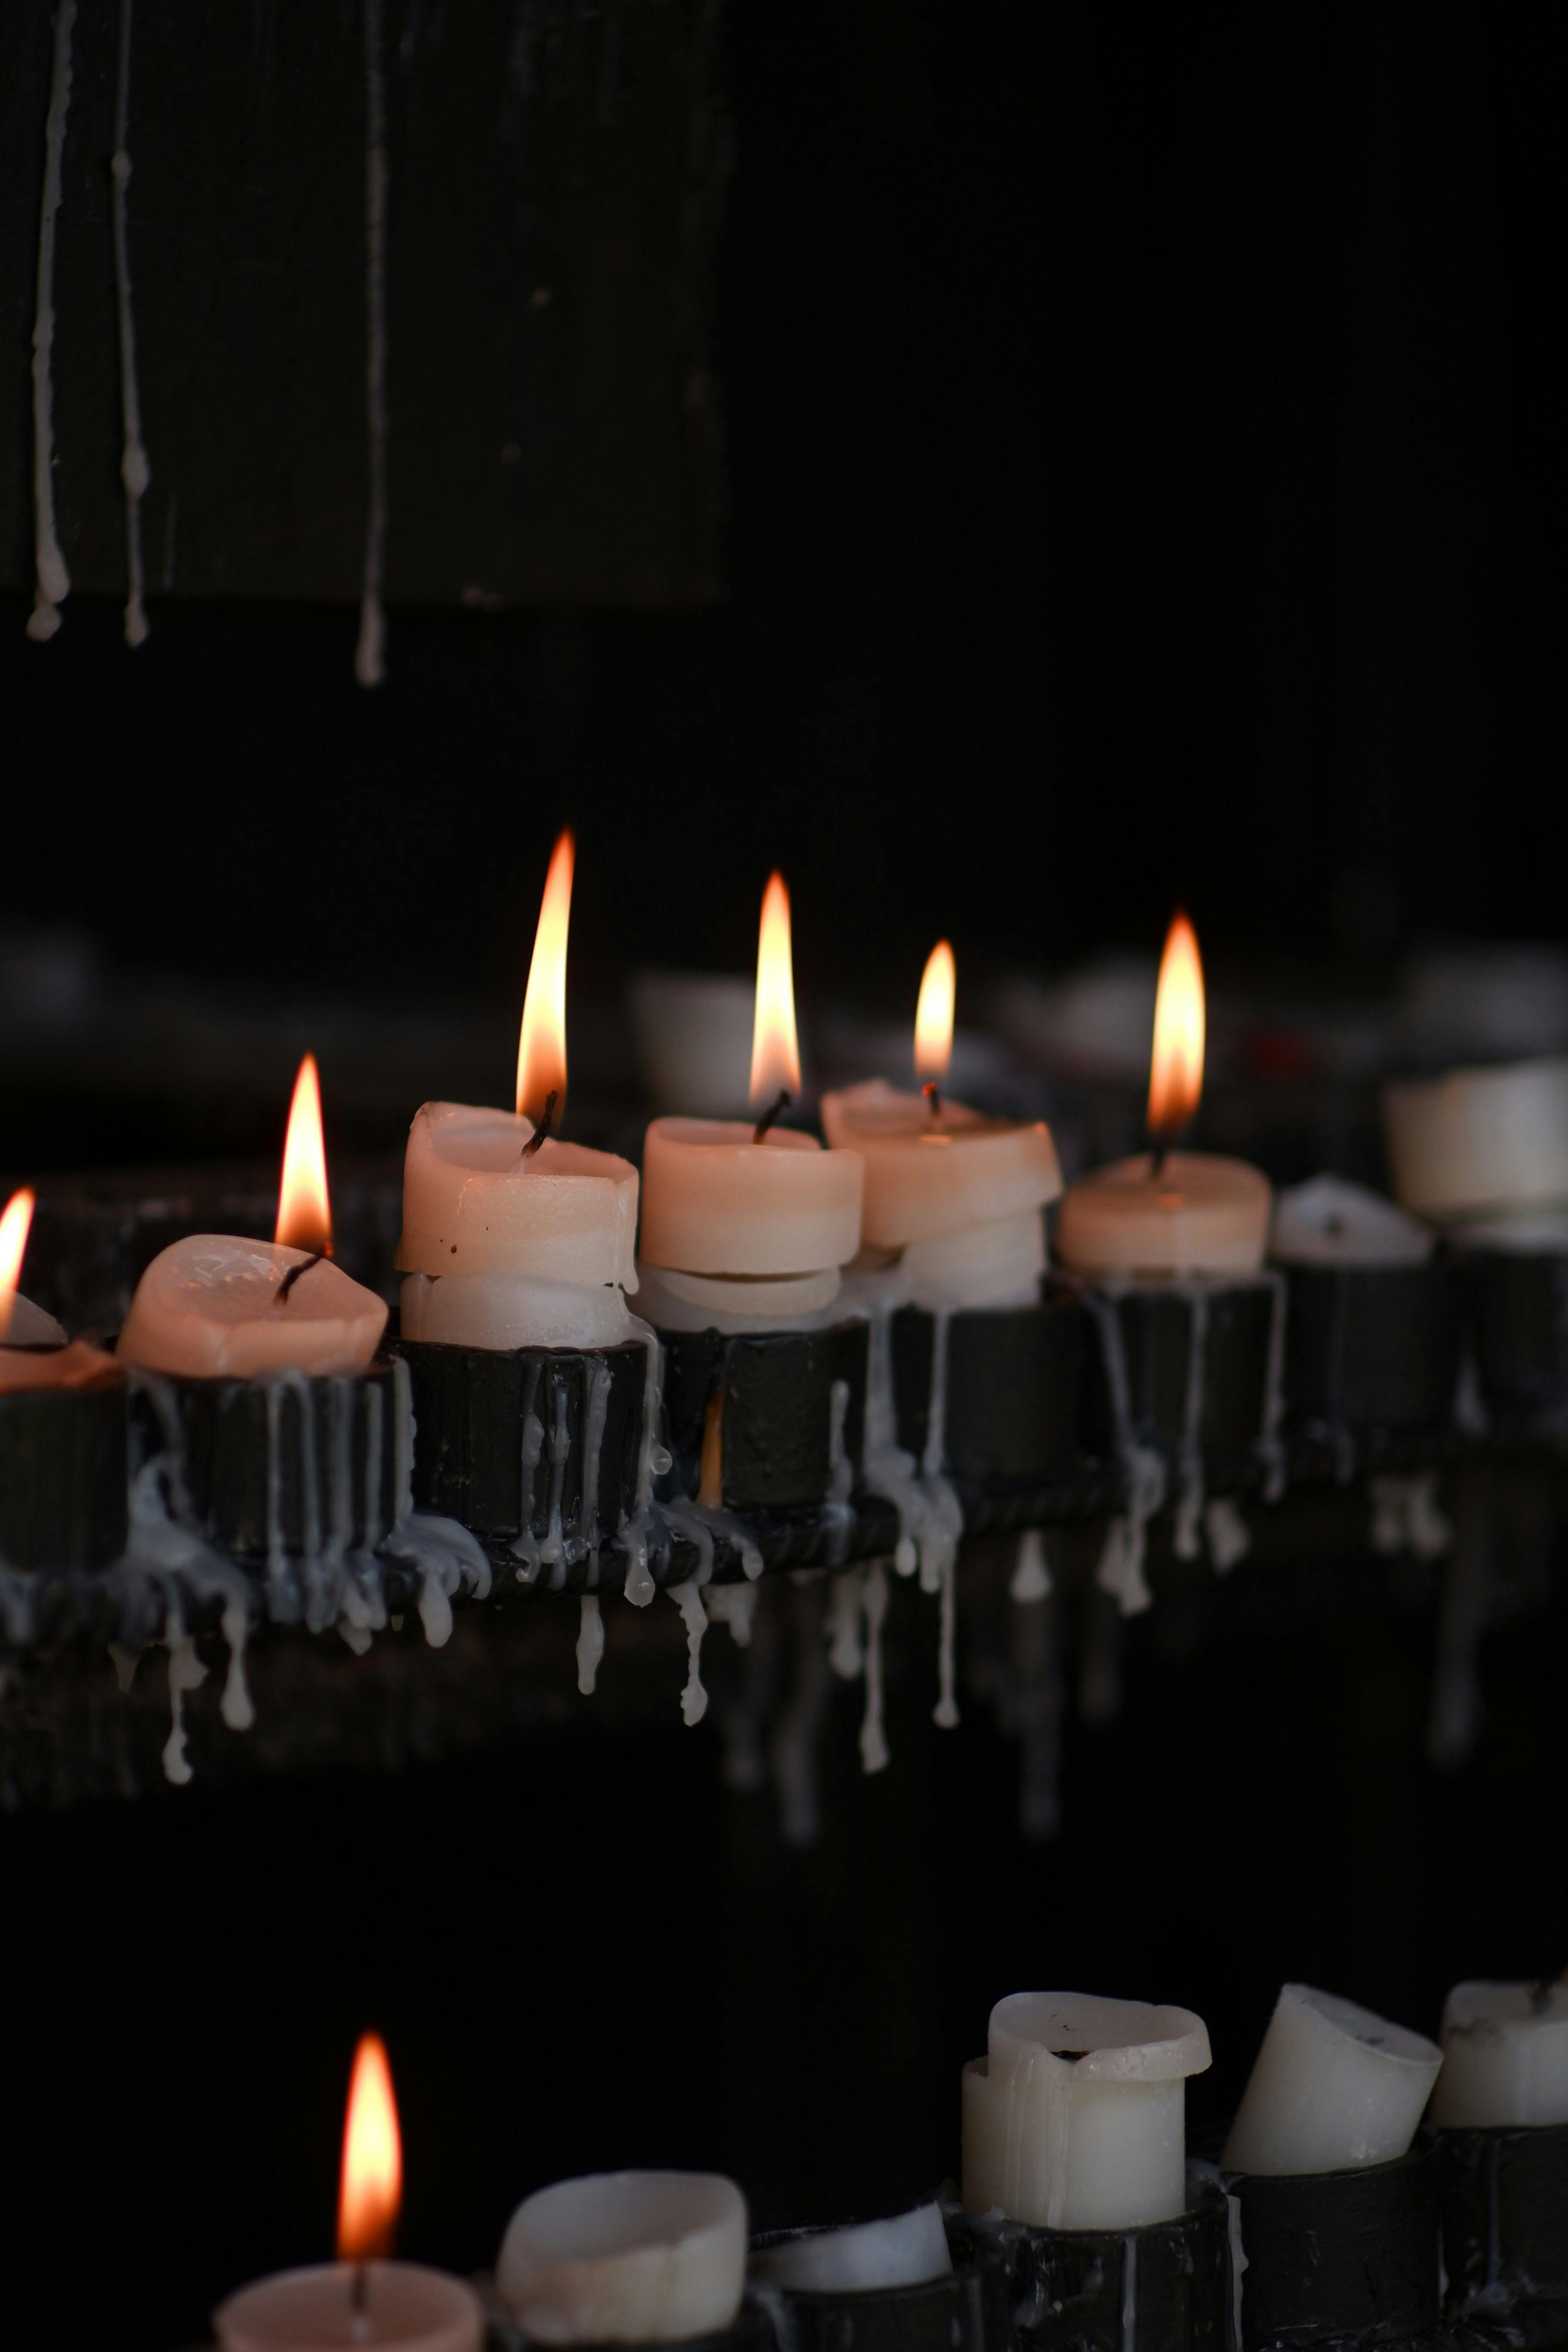Fire: (488, 814, 602, 1155), (313, 2018, 424, 2289), (245, 1039, 364, 1260), (726, 861, 821, 1123), (1122, 910, 1230, 1137), (887, 928, 987, 1099), (0, 1153, 46, 1346)
